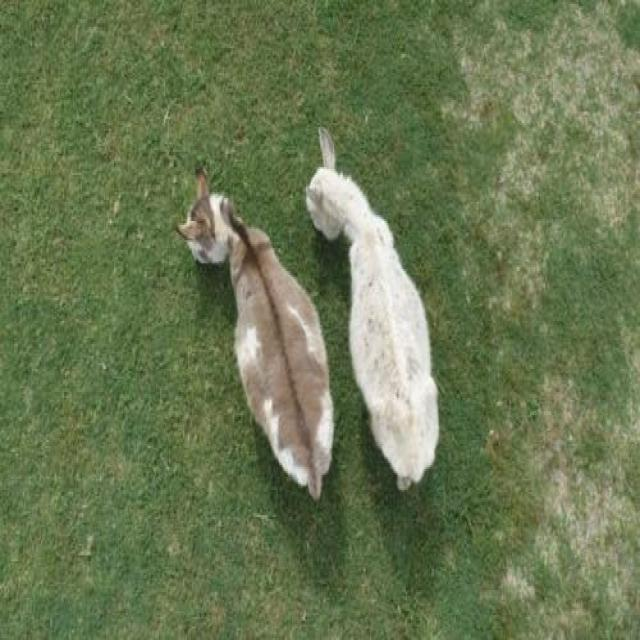Donkey: (177, 162, 337, 499), (306, 123, 441, 495)
